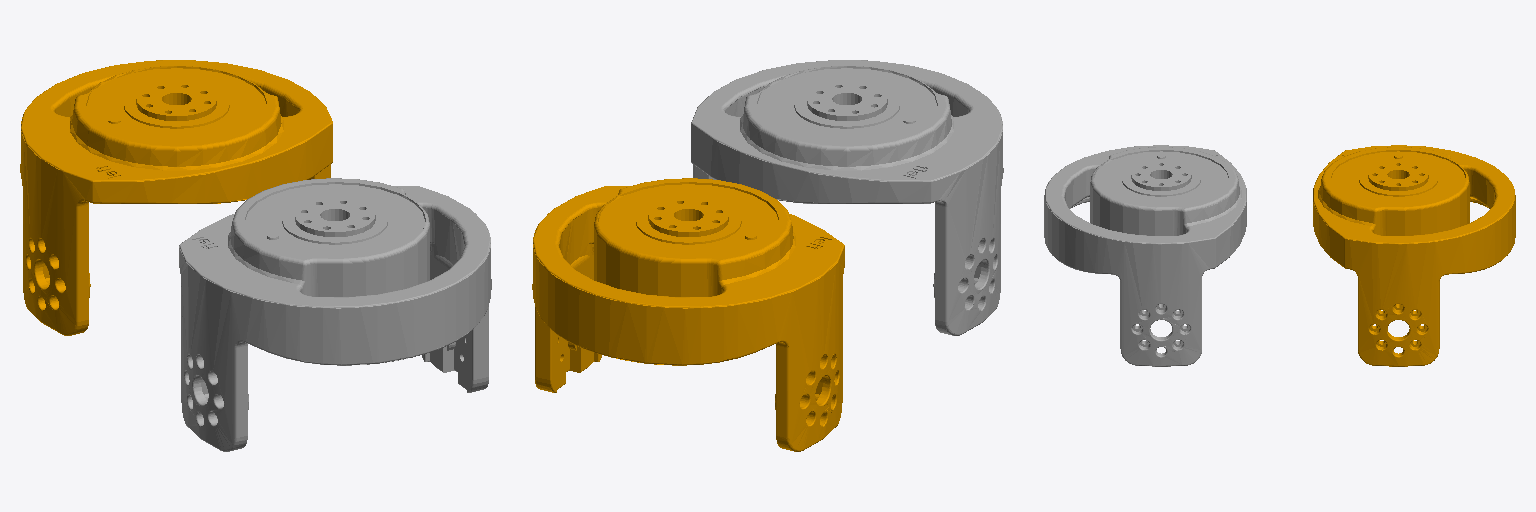
robot.urdf — nubots_nugus_hull:
<?xml version="1.0" ?>
<robot name="nubots_nugus_hull">
  <joint name="right_shoulder_pitch" type="revolute">
    <parent link="torso"/>
    <child link="right_shoulder"/>
    <origin rpy="-1.57079  0       1.57079" xyz="0.005 -0.115  0.18"/>
    <axis xyz="1  0  0"/>
    <limit effort="7.3" lower="-3.14159265359" upper="3.14159265359" velocity="8.16814"/>
  </joint>
  <joint name="left_shoulder_pitch" type="revolute">
    <parent link="torso"/>
    <child link="left_shoulder"/>
    <origin rpy="-1.57079  0       1.57079" xyz="0.005  0.115  0.18"/>
    <axis xyz="1  0  0"/>
    <limit effort="7.3" lower="-3.14159265359" upper="3.14159265359" velocity="8.16814"/>
  </joint>
  <joint name="right_shoulder_roll" type="revolute">
    <parent link="right_shoulder"/>
    <child link="right_upper_arm"/>
    <origin rpy="1.57079  0       0" xyz="-0.015  0     0.005"/>
    <axis xyz="0  0  1"/>
    <limit effort="7.3" lower="-3.14159265359" upper="3.14159265359" velocity="8.16814"/>
  </joint>
  <joint name="left_shoulder_roll" type="revolute">
    <parent link="left_shoulder"/>
    <child link="left_upper_arm"/>
    <origin rpy="1.57079  0       0" xyz="0.015  0     0.005"/>
    <axis xyz="0  0  1"/>
    <limit effort="7.3" lower="-3.14159265359" upper="3.14159265359" velocity="8.16814"/>
  </joint>
  <joint name="right_elbow_pitch" type="revolute">
    <parent link="right_upper_arm"/>
    <child link="right_lower_arm"/>
    <origin rpy="0  0  0" xyz="0.01 -0.19  0.04"/>
    <axis xyz="1  0  0"/>
    <limit effort="7.3" lower="-3.14159265359" upper="3.14159265359" velocity="8.16814"/>
  </joint>
  <joint name="left_elbow_pitch" type="revolute">
    <parent link="left_upper_arm"/>
    <child link="left_lower_arm"/>
    <origin rpy="0  0  0" xyz="-0.01    -0.19     0.03999"/>
    <axis xyz="1  0  0"/>
    <limit effort="7.3" lower="-3.14159265359" upper="3.14159265359" velocity="8.16814"/>
  </joint>
  <joint name="right_hip_yaw" type="revolute">
    <parent link="torso"/>
    <child link="right_hip_yaw"/>
    <origin rpy="0 0 0" xyz="0    -0.055  0"/>
    <axis xyz="0  0  1"/>
    <limit effort="10.0" lower="-3.14159265359" upper="3.14159265359" velocity="5.75959"/>
  </joint>
  <joint name="left_hip_yaw" type="revolute">
    <parent link="torso"/>
    <child link="left_hip_yaw"/>
    <origin rpy="0 0 0" xyz="0 0.055 0"/>
    <axis xyz="0  0  1"/>
    <limit effort="10.0" lower="-3.14159265359" upper="3.14159265359" velocity="5.75959"/>
  </joint>
  <joint name="right_hip_roll" type="revolute">
    <parent link="right_hip_yaw"/>
    <child link="right_hip_roll"/>
    <origin rpy="0  0  0" xyz="0    0   -0.06"/>
    <axis xyz="1 0 0"/>
    <limit effort="10.0" lower="-3.14159265359" upper="3.14159265359" velocity="5.75959"/>
  </joint>
  <joint name="left_hip_roll" type="revolute">
    <parent link="left_hip_yaw"/>
    <child link="left_hip_roll"/>
    <origin rpy="0  0  0" xyz="0    0   -0.06"/>
    <axis xyz="1 0 0"/>
    <limit effort="10.0" lower="-3.14159265359" upper="3.14159265359" velocity="5.75959"/>
  </joint>
  <joint name="right_hip_pitch" type="revolute">
    <parent link="right_hip_roll"/>
    <child link="right_upper_leg"/>
    <origin rpy="0 0 0" xyz="0 0 0"/>
    <axis xyz="0 1 0"/>
    <limit effort="10.0" lower="-3.14159265359" upper="3.14159265359" velocity="5.75959"/>
  </joint>
  <joint name="left_hip_pitch" type="revolute">
    <parent link="left_hip_roll"/>
    <child link="left_upper_leg"/>
    <origin rpy="0 0 0" xyz="0 0 0"/>
    <axis xyz="0 1 0"/>
    <limit effort="10.0" lower="-3.14159265359" upper="3.14159265359" velocity="5.75959"/>
  </joint>
  <joint name="right_knee_pitch" type="revolute">
    <parent link="right_upper_leg"/>
    <child link="right_lower_leg"/>
    <origin rpy="0 0 0" xyz="0 0 -0.2"/>
    <axis xyz="0 1 0"/>
    <limit effort="10.0" lower="-3.14159265359" upper="3.14159265359" velocity="5.75959"/>
  </joint>
  <joint name="left_knee_pitch" type="revolute">
    <parent link="left_upper_leg"/>
    <child link="left_lower_leg"/>
    <origin rpy="0 0 0" xyz="0 0 -0.2"/>
    <axis xyz="0 1  0"/>
    <limit effort="10.0" lower="-3.14159265359" upper="3.14159265359" velocity="5.75959"/>
  </joint>
  <joint name="right_ankle_pitch" type="revolute">
    <parent link="right_lower_leg"/>
    <child link="right_ankle"/>
    <origin rpy=" 0 0 0" xyz="0 0 -0.2"/>
    <axis xyz="0 1 0"/>
    <limit effort="10.0" lower="-3.14159265359" upper="3.14159265359" velocity="5.75959"/>
  </joint>
  <joint name="left_ankle_pitch" type="revolute">
    <parent link="left_lower_leg"/>
    <child link="left_ankle"/>
    <origin rpy="0 0 0" xyz="0 0 -0.2"/>
    <axis xyz="0 1  0"/>
    <limit effort="10.0" lower="-3.14159265359" upper="3.14159265359" velocity="5.75959"/>
  </joint>
  <joint name="right_ankle_roll" type="revolute">
    <parent link="right_ankle"/>
    <child link="right_foot"/>
    <origin rpy="0 0 0" xyz="0 0 0"/>
    <axis xyz="1 0 0"/>
    <limit effort="10.0" lower="-3.14159265359" upper="3.14159265359" velocity="5.75959"/>
  </joint>
  <joint name="left_ankle_roll" type="revolute">
    <parent link="left_ankle"/>
    <child link="left_foot"/>
    <origin rpy="0 0 0" xyz="0 0 0"/>
    <axis xyz="1 0 0"/>
    <limit effort="10.0" lower="-3.14159265359" upper="3.14159265359" velocity="5.75959"/>
  </joint>
  <joint name="neck_yaw" type="revolute">
    <parent link="torso"/>
    <child link="neck"/>
    <origin rpy="0       0       1.57079" xyz="0    0    0.26"/>
    <axis xyz="0  0  1"/>
    <limit effort="7.3" lower="-3.14159265359" upper="3.14159265359" velocity="8.16814"/>
  </joint>
  <joint name="head_pitch" type="revolute">
    <parent link="neck"/>
    <child link="head"/>
    <origin rpy="0  0  0" xyz="0  0  0"/>
    <axis xyz="1  0  0"/>
    <limit effort="7.3" lower="-3.14159265359" upper="3.14159265359" velocity="8.16814"/>
  </joint>
  <link name="torso">
    <inertial>
      <mass value="2.539"/>
      <origin rpy="0  0  0" xyz="0 0 0.13"/>
      <inertia ixx="0.0166572872071" ixy="0.00154518589069" ixz="0.00493865774288" iyy="0.00422523541751" iyz="0.00120275338963" izz="0.0555077839106"/>
    </inertial>
    <collision name="torso_collision">
      <origin rpy="0       0       1.57079" xyz="0  0  0"/>
      <geometry>
        <mesh filename="mesh/torso.stl" scale="1 1 1"/>
      </geometry>
    </collision>
    <visual name="torso_visual">
      <origin rpy="0       0       1.57079" xyz="0  0  0"/>
      <geometry>
        <mesh filename="mesh/torso.stl" scale="1 1 1"/>
      </geometry>
    </visual>
  </link>
  <link name="right_shoulder">
    <inertial>
      <mass value="0.025434"/>
      <origin rpy="0  0  0" xyz="-0.0075 0 0"/>
      <inertia ixx="0.000636" ixy="2e-06" ixz="-3.5e-05" iyy="0.000485" iyz="6e-06" izz="0.000628"/>
    </inertial>
    <collision name="right_shoulder_collision">
      <origin rpy="0  0  0" xyz="0  0  0"/>
      <geometry>
        <mesh filename="mesh/right_shoulder.stl" scale="1 1 1"/>
      </geometry>
    </collision>
    <visual name="right_shoulder_visual">
      <origin rpy="0  0  0" xyz="0  0  0"/>
      <geometry>
        <mesh filename="mesh/right_shoulder.stl" scale="1 1 1"/>
      </geometry>
    </visual>
  </link>
  <link name="left_shoulder">
    <inertial>
      <mass value="0.025434"/>
      <origin rpy="0  0  0" xyz="0.0075 0 0"/>
      <inertia ixx="0.000636" ixy="-2e-06" ixz="-3.5e-05" iyy="0.000485" iyz="-6e-06" izz="0.000628"/>
    </inertial>
    <collision name="left_shoulder_collision">
      <origin rpy="0  0  0" xyz="0  0  0"/>
      <geometry>
        <mesh filename="mesh/left_shoulder.stl" scale="1 1 1"/>
      </geometry>
    </collision>
    <visual name="left_shoulder_visual">
      <origin rpy="0  0  0" xyz="0  0  0"/>
      <geometry>
        <mesh filename="mesh/left_shoulder.stl" scale="1 1 1"/>
      </geometry>
    </visual>
  </link>
  <link name="right_upper_arm">
    <inertial>
      <mass value="0.297"/>
      <origin rpy="0  0  0" xyz="-0.00047 -0.00048 -0.04785"/>
      <inertia ixx="0.00244090259623" ixy="-3.67136912481e-06" ixz="-0.000138914522851" iyy="0.0022838340537" iyz="-1.97953337853e-05" izz="0.000536693721409"/>
    </inertial>
    <collision name="right_upper_arm_collision">
      <origin rpy="0  0  0" xyz="0  0  0"/>
      <geometry>
        <mesh filename="mesh/right_upper_arm.stl" scale="1 1 1"/>
      </geometry>
    </collision>
    <visual name="right_upper_arm_visual">
      <origin rpy="0  0  0" xyz="0  0  0"/>
      <geometry>
        <mesh filename="mesh/right_upper_arm.stl" scale="1 1 1"/>
      </geometry>
    </visual>
  </link>
  <link name="left_upper_arm">
    <inertial>
      <mass value="0.297"/>
      <origin rpy="0  0  0" xyz="-0.00047  0.00048 -0.04785"/>
      <inertia ixx="0.00244090259623" ixy="-3.67136912481e-06" ixz="-0.000138914522851" iyy="0.0022838340537" iyz="-1.97953337853e-05" izz="0.000536693721409"/>
    </inertial>
    <collision name="left_upper_arm_collision">
      <origin rpy="0  0  0" xyz="0  0  0"/>
      <geometry>
        <mesh filename="mesh/left_upper_arm.stl" scale="1 1 1"/>
      </geometry>
    </collision>
    <visual name="left_upper_arm_visual">
      <origin rpy="0  0  0" xyz="0  0  0"/>
      <geometry>
        <mesh filename="mesh/left_upper_arm.stl" scale="1 1 1"/>
      </geometry>
    </visual>
  </link>
  <link name="right_lower_arm">
    <inertial>
      <mass value="0.26"/>
      <origin rpy="0  0  0" xyz="0.05336 -0.00081  0.0006"/>
      <inertia ixx="0.0003407158556" ixy="0.000118236734121" ixz="-2.88307886182e-05" iyy="0.00176921345035" iyz="4.6856873015e-06" izz="0.00161805925411"/>
    </inertial>
    <collision name="right_lower_arm_collision">
      <origin rpy="0  0  0" xyz="0  0  0"/>
      <geometry>
        <mesh filename="mesh/right_lower_arm.stl" scale="1 1 1"/>
      </geometry>
    </collision>
    <visual name="right_lower_arm_visual">
      <origin rpy="0  0  0" xyz="0  0  0"/>
      <geometry>
        <mesh filename="mesh/right_lower_arm.stl" scale="1 1 1"/>
      </geometry>
    </visual>
  </link>
  <link name="left_lower_arm">
    <inertial>
      <mass value="0.26"/>
      <origin rpy="0  0  0" xyz="0.05336 -0.00081  0.0006"/>
      <inertia ixx="0.0003407158556" ixy="0.000118236734121" ixz="-2.88307886182e-05" iyy="0.00176921345035" iyz="4.6856873015e-06" izz="0.00161805925411"/>
    </inertial>
    <collision name="left_lower_arm_collision">
      <origin rpy="0  0  0" xyz="0  0  0"/>
      <geometry>
        <mesh filename="mesh/left_lower_arm.stl" scale="1 1 1"/>
      </geometry>
    </collision>
    <visual name="left_lower_arm_visual">
      <origin rpy="0  0  0" xyz="0  0  0"/>
      <geometry>
        <mesh filename="mesh/left_lower_arm.stl" scale="1 1 1"/>
      </geometry>
    </visual>
  </link>
  <link name="right_hip_yaw">
    <inertial>
      <mass value="0.067"/>
      <origin rpy="0  0  0" xyz="-0.00218 -0.04605 -0.02475"/>
      <inertia ixx="0.000882290820872" ixy="1.67744972811e-06" ixz="-7.82340516059e-06" iyy="0.0017446691852" iyz="-2.5331607648e-05" izz="0.00199696722705"/>
    </inertial>
    <collision name="right_hip_yaw_collision">
      <origin rpy="0  0  1.57079" xyz="0  0  0"/>
      <geometry>
        <mesh filename="mesh/right_hip_yaw.stl" scale="1 1 1"/>
      </geometry>
    </collision>
    <visual name="right_hip_yaw_visual">
      <origin rpy="0  0  1.57079" xyz="0  0  0"/>
      <geometry>
        <mesh filename="mesh/right_hip_yaw.stl" scale="1 1 1"/>
      </geometry>
    </visual>
  </link>
  <link name="left_hip_yaw">
    <inertial>
      <mass value="0.067"/>
      <origin rpy="0  0  0" xyz="-0.00218  0.04605 -0.02475"/>
      <inertia ixx="0.000882226060809" ixy="-1.70552313911e-06" ixz="-7.85442766165e-06" iyy="0.00174462757152" iyz="2.53317940902e-05" izz="0.00199699030659"/>
    </inertial>
    <collision name="left_hip_yaw_collision">
      <origin rpy="0  0  1.57079" xyz="0  0  0"/>
      <geometry>
        <mesh filename="mesh/left_hip_yaw.stl" scale="1 1 1"/>
      </geometry>
    </collision>
    <visual name="left_hip_yaw_visual">
      <origin rpy="0  0  1.57079" xyz="0  0  0"/>
      <geometry>
        <mesh filename="mesh/left_hip_yaw.stl" scale="1 1 1"/>
      </geometry>
    </visual>
  </link>
  <link name="right_hip_roll">
    <inertial>
      <mass value="0.306"/>
      <origin rpy="0  0  0" xyz="1.57300000e-02  -3.00000000e-05  -2.07100000e-02"/>
      <inertia ixx="0.00011792969792" ixy="3.75077766164e-06" ixz="-3.76239396173e-06" iyy="0.000216752921659" iyz="-1.04719102357e-06" izz="0.00026193571108"/>
    </inertial>
    <collision name="right_hip_roll_collision">
      <origin rpy="0  0  1.57079" xyz="0  0  0"/>
      <geometry>
        <mesh filename="mesh/right_hip_roll.stl" scale="1 1 1"/>
      </geometry>
    </collision>
    <visual name="right_hip_roll_visual">
      <origin rpy="0  0  1.57079" xyz="0  0  0"/>
      <geometry>
        <mesh filename="mesh/right_hip_roll.stl" scale="1 1 1"/>
      </geometry>
    </visual>
  </link>
  <link name="left_hip_roll">
    <inertial>
      <mass value="0.306"/>
      <origin rpy="0  0  0" xyz="1.57300000e-02   3.00000000e-05  -2.07100000e-02"/>
      <inertia ixx="0.00011792969792" ixy="3.75077766164e-06" ixz="-3.76239396173e-06" iyy="0.000216752921659" iyz="-1.04719102357e-06" izz="0.00026193571108"/>
    </inertial>
    <collision name="left_hip_roll_collision">
      <origin rpy="0  0  1.57079" xyz="0  0  0"/>
      <geometry>
        <mesh filename="mesh/left_hip_roll.stl" scale="1 1 1"/>
      </geometry>
    </collision>
    <visual name="left_hip_roll_visual">
      <origin rpy="0  0  1.57079" xyz="0  0  0"/>
      <geometry>
        <mesh filename="mesh/left_hip_roll.stl" scale="1 1 1"/>
      </geometry>
    </visual>
  </link>
  <link name="right_upper_leg">
    <inertial>
      <mass value="0.387"/>
      <origin rpy="0  0  0" xyz="0 0 -0.1"/>
      <inertia ixx="0.000696700519632" ixy="-9.53476806421e-06" ixz="-0.000470624649862" iyy="0.00239278787906" iyz="1.16876636437e-07" izz="0.00205692152569"/>
    </inertial>
    <collision name="right_upper_leg_collision">
      <origin rpy="0  0  1.57079" xyz="0  0  0"/>
      <geometry>
        <mesh filename="mesh/right_upper_leg.stl" scale="1 1 1"/>
      </geometry>
    </collision>
    <visual name="right_upper_leg_visual">
      <origin rpy="0  0  1.57079" xyz="0  0  0"/>
      <geometry>
        <mesh filename="mesh/right_upper_leg.stl" scale="1 1 1"/>
      </geometry>
    </visual>
  </link>
  <link name="left_upper_leg">
    <inertial>
      <mass value="0.387"/>
      <origin rpy="0  0  0" xyz="0 0 -0.1"/>
      <inertia ixx="0.000696700519632" ixy="9.53476806421e-06" ixz="-0.000470624649862" iyy="0.00239278787906" iyz="-1.16876636437e-07" izz="0.00205692152569"/>
    </inertial>
    <collision name="left_upper_leg_collision">
      <origin rpy="0  0  1.57079" xyz="0  0  0"/>
      <geometry>
        <mesh filename="mesh/left_upper_leg.stl" scale="1 1 1"/>
      </geometry>
    </collision>
    <visual name="left_upper_leg_visual">
      <origin rpy="0  0  1.57079" xyz="0  0  0"/>
      <geometry>
        <mesh filename="mesh/left_upper_leg.stl" scale="1 1 1"/>
      </geometry>
    </visual>
  </link>
  <link name="right_lower_leg">
    <inertial>
      <mass value="0.177"/>
      <origin rpy="0  0  0" xyz="0 0 -0.1"/>
      <inertia ixx="0.000262985314881" ixy="-8.38322526059e-06" ixz="0.000263433998983" iyy="0.00158709194955" iyz="-6.90920077416e-07" izz="0.00141772095062"/>
    </inertial>
    <collision name="right_lower_leg_collision">
      <origin rpy="0  0  1.57079" xyz="0  0  0"/>
      <geometry>
        <mesh filename="mesh/right_lower_leg.stl" scale="1 1 1"/>
      </geometry>
    </collision>
    <visual name="right_lower_leg_visual">
      <origin rpy="0  0  1.57079" xyz="0  0  0"/>
      <geometry>
        <mesh filename="mesh/right_lower_leg.stl" scale="1 1 1"/>
      </geometry>
    </visual>
  </link>
  <link name="left_lower_leg">
    <inertial>
      <mass value="0.177"/>
      <origin rpy="0  0  0" xyz="0 0 -0.1"/>
      <inertia ixx="0.000262985314881" ixy="8.38322526059e-06" ixz="0.000263433998983" iyy="0.00158709194955" iyz="6.90920077416e-07" izz="0.00141772095062"/>
    </inertial>
    <collision name="left_lower_leg_collision">
      <origin rpy="0  0  1.57079" xyz="0  0  0"/>
      <geometry>
        <mesh filename="mesh/left_lower_leg.stl" scale="1 1 1"/>
      </geometry>
    </collision>
    <visual name="left_lower_leg_visual">
      <origin rpy="0  0 1.57079" xyz="0  0  0"/>
      <geometry>
        <mesh filename="mesh/left_lower_leg.stl" scale="1 1 1"/>
      </geometry>
    </visual>
  </link>
  <link name="right_ankle">
    <inertial>
      <mass value="0.306"/>
      <origin rpy="0  0  0" xyz="-0.01573  0.00051 -0.02197"/>
      <inertia ixx="0.00011792969792" ixy="3.75077766164e-06" ixz="3.76239396173e-06" iyy="0.000216752921659" iyz="1.04719102357e-06" izz="0.00026193571108"/>
    </inertial>
    <collision name="right_ankle_collision">
      <origin rpy="0  3.14159  1.57079" xyz="0  0  0"/>
      <geometry>
        <mesh filename="mesh/right_ankle.stl" scale="1 1 1"/>
      </geometry>
    </collision>
    <visual name="right_ankle_visual">
      <origin rpy="0  3.14159  1.57079" xyz="0  0  0"/>
      <geometry>
        <mesh filename="mesh/right_ankle.stl" scale="1 1 1"/>
      </geometry>
    </visual>
  </link>
  <link name="left_ankle">
    <inertial>
      <mass value="0.306"/>
      <origin rpy="0  0  0" xyz="-0.01573  0.00051 -0.02197"/>
      <inertia ixx="0.00011792969792" ixy="-3.75077766164e-06" ixz="3.76239396173e-06" iyy="0.000216752921659" iyz="-1.04719102357e-06" izz="0.00026193571108"/>
    </inertial>
    <collision name="left_ankle_collision">
      <origin rpy="0 3.14159  1.57079" xyz="0  0  0"/>
      <geometry>
        <mesh filename="mesh/left_ankle.stl" scale="1 1 1"/>
      </geometry>
    </collision>
    <visual name="left_ankle_visual">
      <origin rpy="0 3.14159  1.57079" xyz="0  0  0"/>
      <geometry>
        <mesh filename="mesh/left_ankle.stl" scale="1 1 1"/>
      </geometry>
    </visual>
  </link>
  <link name="right_foot">
    <inertial>
      <mass value="0.205"/>
      <origin rpy="0  0  0" xyz="0.0308   0.00877  0.01129"/>
      <inertia ixx="0.000469227615567" ixy="1.23728985389e-05" ixz="5.16561744473e-06" iyy="0.0010836186025" iyz="-1.75941501866e-06" izz="0.00139011775571"/>
    </inertial>
    <collision name="right_foot_collision">
      <origin rpy="0  0  1.57079" xyz="0  0  0"/>
      <geometry>
        <mesh filename="mesh/right_foot.stl" scale="1 1 1"/>
      </geometry>
    </collision>
    <visual name="right_foot_visual">
      <origin rpy="0  0  1.57079" xyz="0  0  0"/>
      <geometry>
        <mesh filename="mesh/right_foot.stl" scale="1 1 1"/>
      </geometry>
    </visual>
  </link>
  <link name="left_foot">
    <inertial>
      <mass value="0.205"/>
      <origin rpy="0  0  0" xyz="0.0308   0.00877  0.01129"/>
      <inertia ixx="0.000469227615567" ixy="-1.23728985389e-05" ixz="5.16561744473e-06" iyy="0.0010836186025" iyz="1.75941501866e-06" izz="0.00139011775571"/>
    </inertial>
    <collision name="left_foot_collision">
      <origin rpy="0  0  1.57079" xyz="0  0  0"/>
      <geometry>
        <mesh filename="mesh/left_foot.stl" scale="1 1 1"/>
      </geometry>
    </collision>
    <visual name="left_foot_visual">
      <origin rpy="0  0  1.57079" xyz="0  0  0"/>
      <geometry>
        <mesh filename="mesh/left_foot.stl" scale="1 1 1"/>
      </geometry>
    </visual>
  </link>
  <link name="neck">
    <inertial>
      <mass value="0.135"/>
      <origin rpy="0  0  0" xyz="-0.00603 -0.0016   0.24115"/>
      <inertia ixx="0.000411112411154" ixy="1.34448293546e-10" ixz="-3.64693458364e-10" iyy="0.000343174942176" iyz="-1.24602176867e-05" izz="0.000233389890355"/>
    </inertial>
    <collision name="neck_collision">
      <origin rpy="0  0  0" xyz="0  0  0"/>
      <geometry>
        <mesh filename="mesh/neck.stl" scale="1 1 1"/>
      </geometry>
    </collision>
    <visual name="neck_visual">
      <origin rpy="0  0  0" xyz="0  0  0"/>
      <geometry>
        <mesh filename="mesh/neck.stl" scale="1 1 1"/>
      </geometry>
    </visual>
  </link>
  <link name="head">
    <inertial>
      <mass value="0.419"/>
      <origin rpy="0  0  0" xyz="-0.05482 -0.0001   0.00117"/>
      <inertia ixx="0.00522954263224" ixy="8.06868913029e-07" ixz="-7.85419377514e-05" iyy="0.00427382206022" iyz="2.26332170851e-07" izz="0.00333363205267"/>
    </inertial>
    <collision name="head_collision">
      <origin rpy="0  0  0" xyz="0  0  0"/>
      <geometry>
        <mesh filename="mesh/head.stl" scale="1 1 1"/>
      </geometry>
    </collision>
    <visual name="head_visual">
      <origin rpy="0  0  0" xyz="0  0  0"/>
      <geometry>
        <mesh filename="mesh/head.stl" scale="1 1 1"/>
      </geometry>
    </visual>
  </link>
</robot>

--- What the picture shows (computed from the rendered views, not written in the file) ---
Views: 3 orthographic renders of the robot side by side, from view 1: azimuth 30°, elevation 25°; view 2: azimuth 150°, elevation 25°; view 3: azimuth 270°, elevation 25°.
Model nubots_nugus_hull with 21 links and 20 joints (20 revolute), rooted at torso, posed all joints at 0.
Visible links, largest first — view 1: right_hip_yaw, left_hip_yaw; view 2: left_hip_yaw, right_hip_yaw; view 3: right_hip_yaw, left_hip_yaw.
Boxes of the visible links, x1,y1,x2,y2 form: right_hip_yaw: (179, 178, 491, 451); left_hip_yaw: (20, 60, 332, 335); left_hip_yaw: (532, 178, 844, 451); right_hip_yaw: (691, 60, 1003, 335); right_hip_yaw: (1044, 145, 1246, 366); left_hip_yaw: (1313, 145, 1515, 366).
Bounding box of the posed robot: 0.1085 × 0.2185 × 0.0735 m (x, y, z).
2 mesh visuals loaded from 21 distinct referenced files (2 binary STL); not drawn: 19 (reference not matched to a file when rendering).